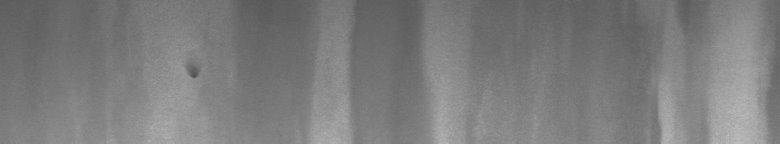fi: (181, 64, 204, 84)
